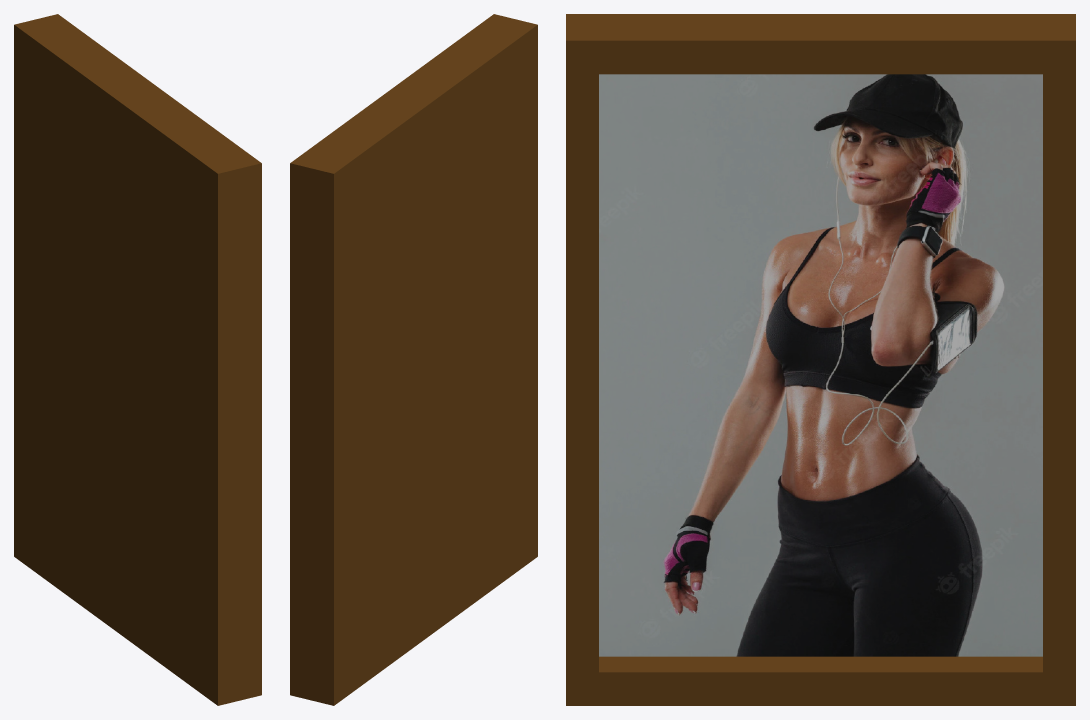
Rendered from fitgirl.fbx.
3 renders of one model, left to right at view 1: azimuth 30°, elevation 25°; view 2: azimuth 150°, elevation 25°; view 3: azimuth 270°, elevation 25°, orthographic. The views are drawn at different scales.
Visible parts, largest first — view 1: girl; view 2: girl; view 3: girl.
Part boxes in pixels (box(x1,y1,x2,y2)): girl: box(14, 14, 261, 705); girl: box(290, 14, 537, 705); girl: box(566, 14, 1075, 705).
Size of the model in its own units: 9.59 by 111 by 77.22.
2 materials, 1 textured.
